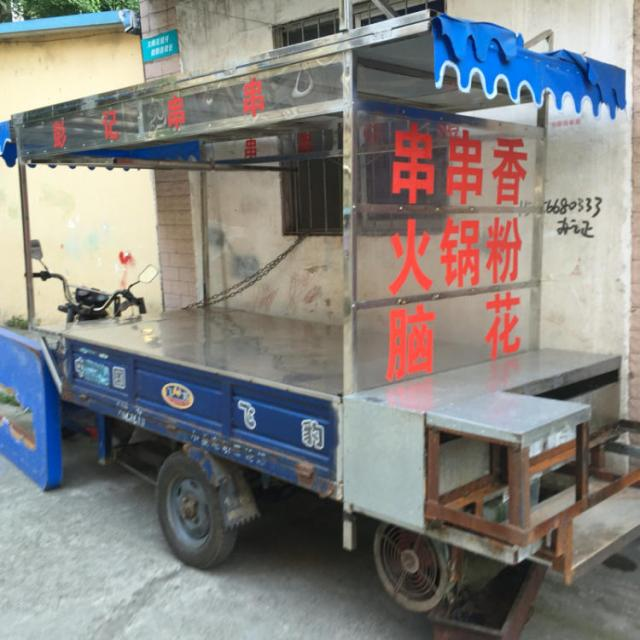tricycle: (1, 7, 609, 569)
